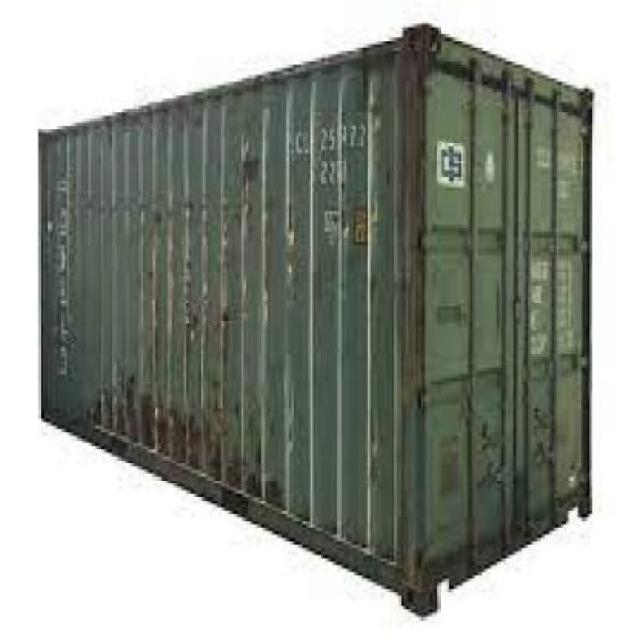rust: (99, 364, 267, 462), (395, 24, 431, 412)
